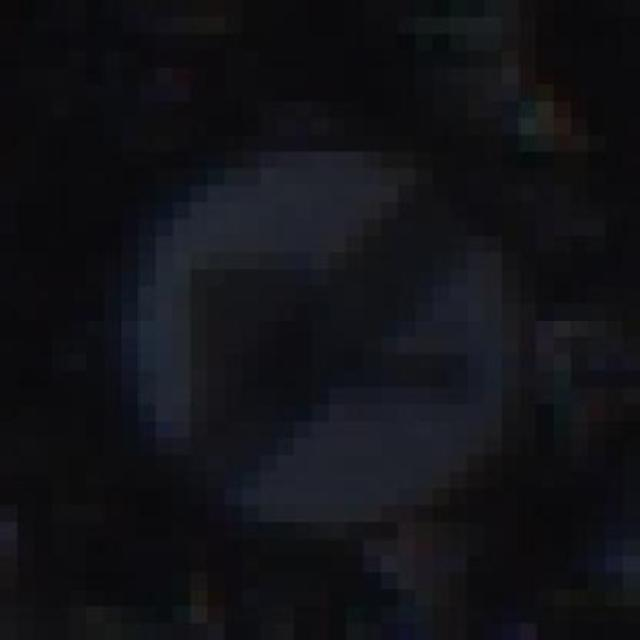Overtaking by trucks is prohibited: (86, 84, 571, 556)
